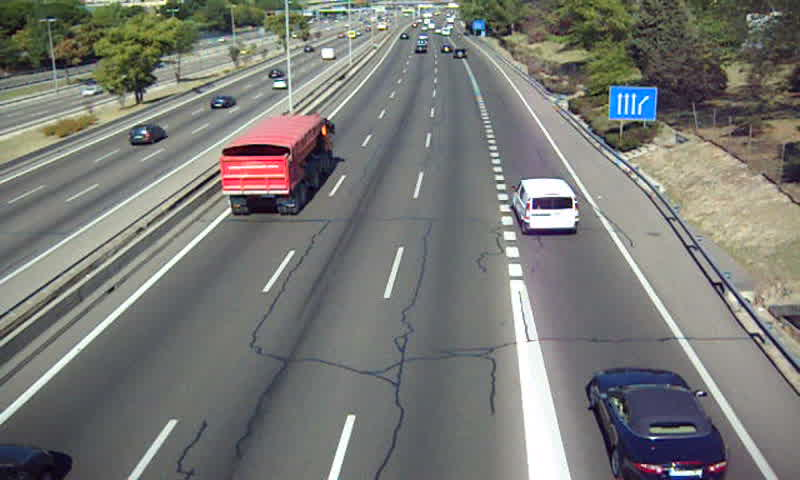car: (590, 369, 726, 480)
truck: (217, 115, 333, 216)
van: (512, 178, 580, 232)
